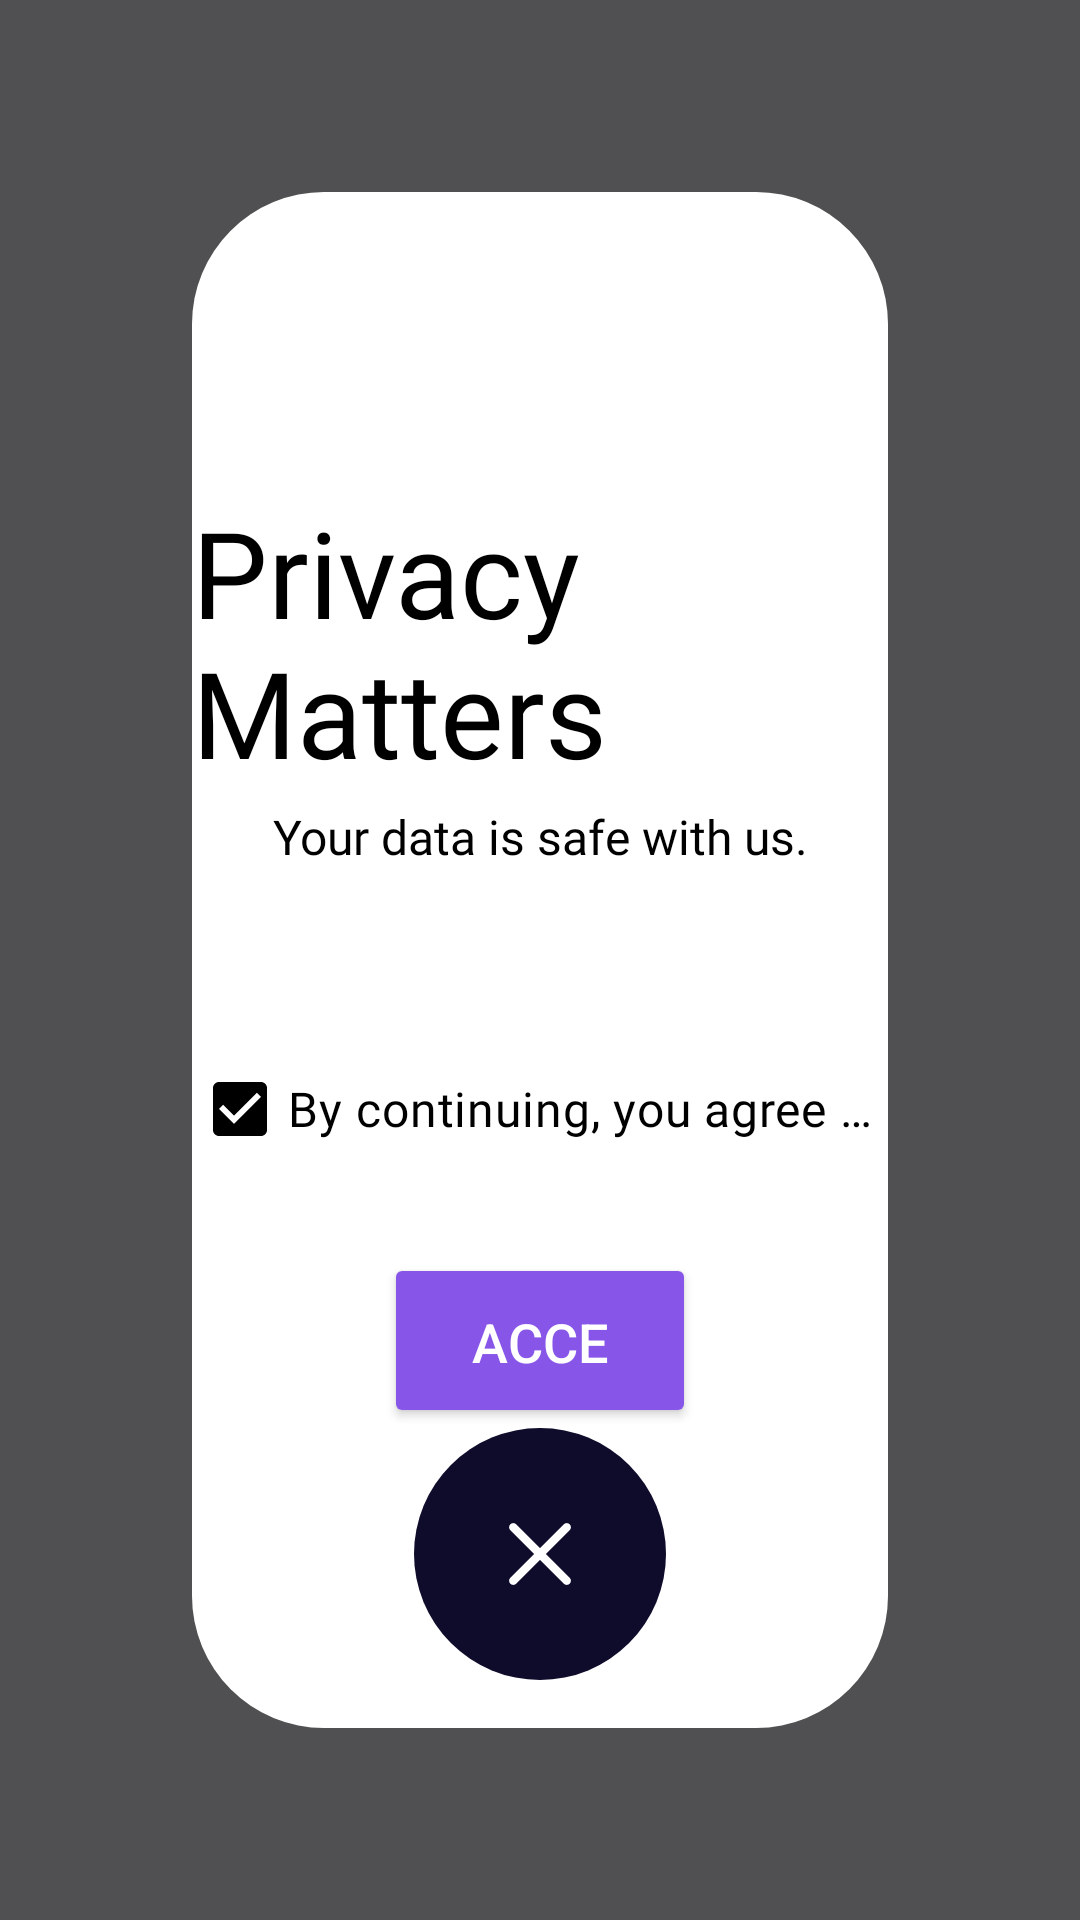

Where to tap for icons on this 1080*1920 app screen, as point (x, y):
close: point (540, 1554)
